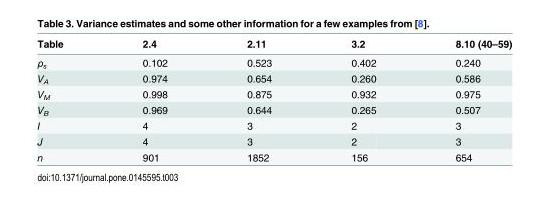table: (36, 37, 511, 162)
table column: (310, 37, 415, 162), (102, 37, 206, 162), (206, 37, 310, 162), (415, 37, 511, 162), (36, 37, 102, 162)
table column header: (36, 37, 511, 52)
table row: (36, 52, 511, 70), (36, 70, 511, 86), (36, 86, 511, 102), (36, 117, 511, 133), (36, 133, 511, 149), (36, 37, 511, 52), (36, 102, 511, 117), (36, 149, 511, 162)
